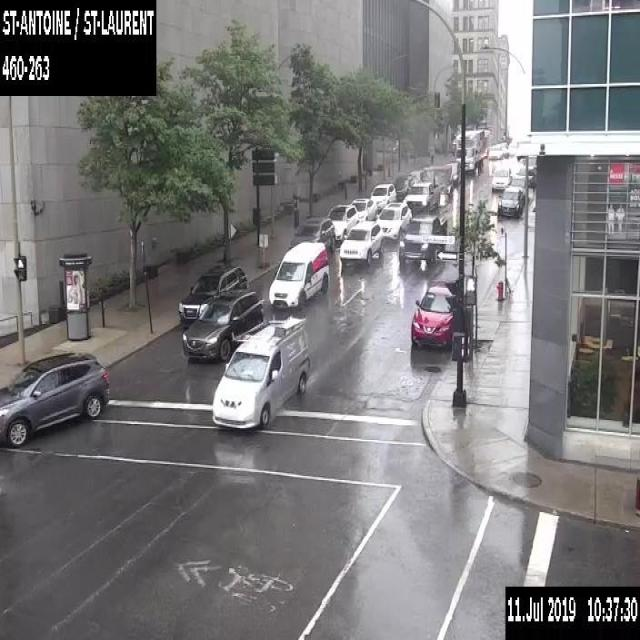vehicle: (212, 312, 312, 428), (0, 349, 110, 448), (181, 288, 263, 359), (177, 262, 247, 328), (267, 240, 329, 306), (408, 280, 452, 351), (398, 213, 447, 266), (403, 163, 451, 215), (339, 220, 384, 266), (290, 215, 335, 254), (452, 128, 487, 176), (375, 201, 411, 239), (327, 203, 358, 241), (497, 186, 523, 216), (370, 182, 396, 211), (349, 196, 376, 222), (393, 173, 418, 201), (509, 174, 529, 202), (491, 164, 512, 190), (515, 164, 535, 188), (445, 161, 460, 184), (408, 168, 424, 184), (488, 144, 502, 159), (496, 141, 508, 157), (527, 152, 538, 168)
